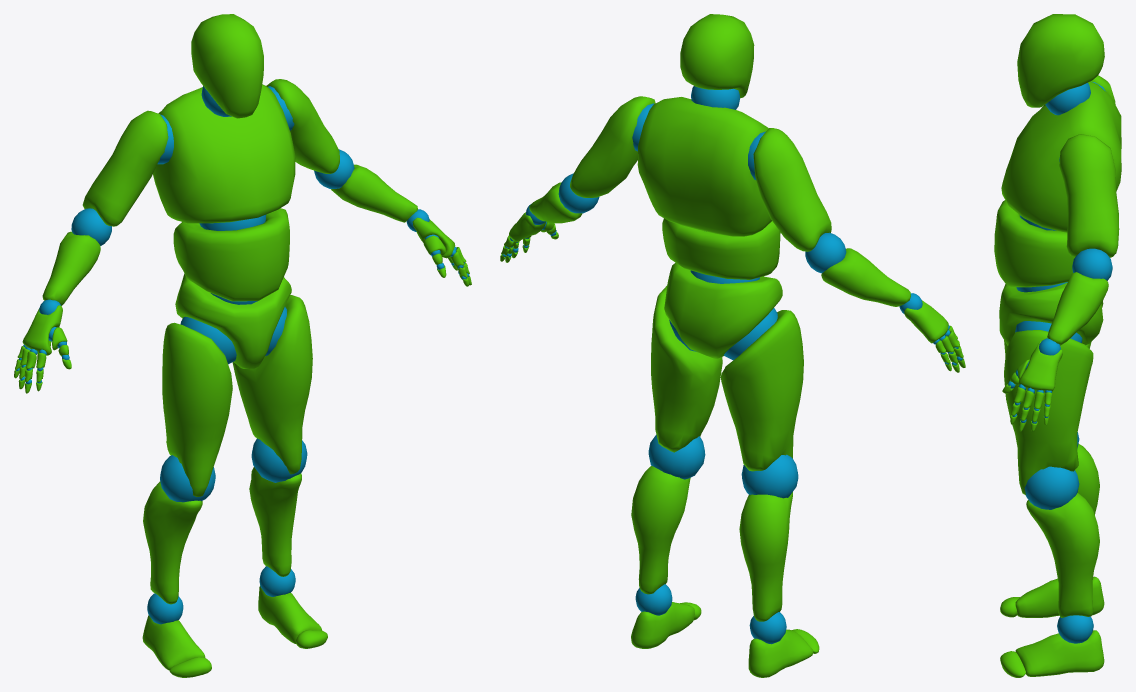
File: Dummy.fbx
3 renders of one model, left to right at view 1: azimuth 30°, elevation 25°; view 2: azimuth 150°, elevation 25°; view 3: azimuth 270°, elevation 25°, orthographic.
Parts seen in each view (by area): view 1: Body_3, LegR_1, Body_2, LegL_1, Head, ArmR_1, Body_1, LegR_2, LegL_2, ArmL_1, ArmR_2, ArmL_2 (+10 smaller); view 2: Body_3, LegR_1, Body_1, LegL_1, ArmR_1, Body_2, LegR_2, Head, LegL_2, ArmL_1, ArmR_2, LegR_3 (+11 smaller); view 3: Body_3, LegL_1, Head, ArmL_1, LegL_2, Body_2, LegL_3, Body_1, ArmL_2, LegL_2_Ball, LegR_3, WristL. (+8 smaller).
Part boxes in pixels (x1,y1,x2,y2): Body_3: [153, 84, 295, 223]; LegR_1: [162, 322, 232, 496]; Body_2: [173, 208, 289, 301]; LegL_1: [232, 295, 312, 474]; Head: [191, 14, 263, 118]; ArmR_1: [82, 110, 168, 226]; Body_1: [175, 273, 291, 368]; LegR_2: [143, 481, 202, 604]; LegL_2: [249, 467, 301, 576]; ArmL_1: [266, 79, 339, 173]; ArmR_2: [42, 231, 100, 305]; ArmL_2: [331, 164, 417, 222]; Body_3: [637, 97, 771, 236]; LegR_1: [720, 310, 803, 471]; Body_1: [664, 262, 782, 358]; LegL_1: [651, 285, 722, 452]; ArmR_1: [753, 128, 831, 251]; Body_2: [662, 218, 780, 279]; LegR_2: [739, 492, 792, 621]; Head: [680, 14, 754, 98]; LegL_2: [631, 466, 690, 594]; ArmL_1: [570, 96, 655, 197]; ArmR_2: [821, 248, 910, 306]; LegR_3: [748, 629, 813, 677]; Body_3: [1001, 81, 1121, 232]; LegL_1: [1004, 330, 1093, 494]; Head: [1017, 14, 1104, 107]; ArmL_1: [1059, 134, 1119, 257]; LegL_2: [1026, 493, 1099, 617]; Body_2: [994, 200, 1074, 287]; LegL_3: [1015, 630, 1104, 676]; Body_1: [999, 282, 1103, 345]; ArmL_2: [1047, 272, 1108, 345]; LegL_2_Ball: [1024, 466, 1079, 509]; LegR_3: [1015, 576, 1104, 617]; WristL.: [1018, 340, 1062, 392].
Size of the model in its own units: 184 by 246 by 45.38.
